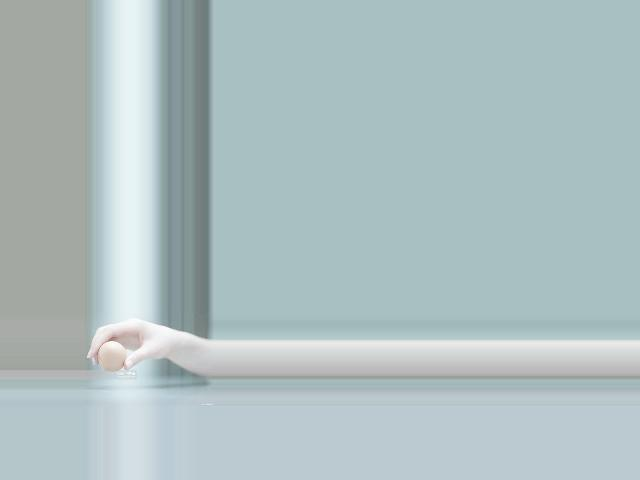egg: (97, 341, 127, 372)
